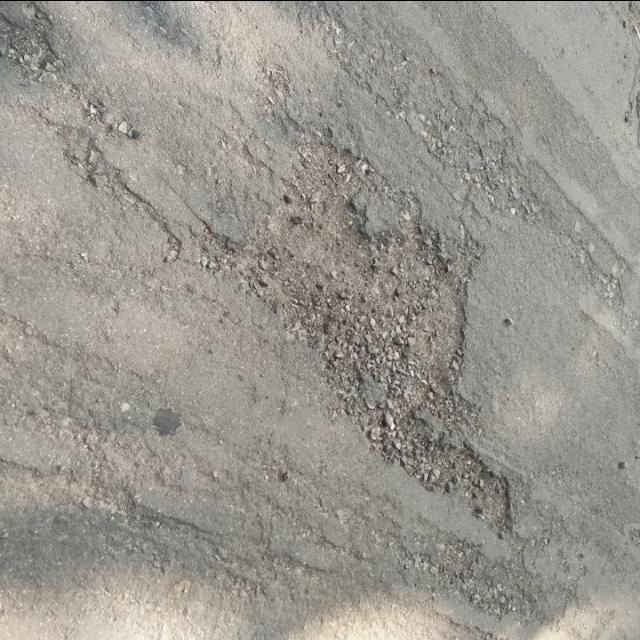pothole: (166, 124, 546, 594)
